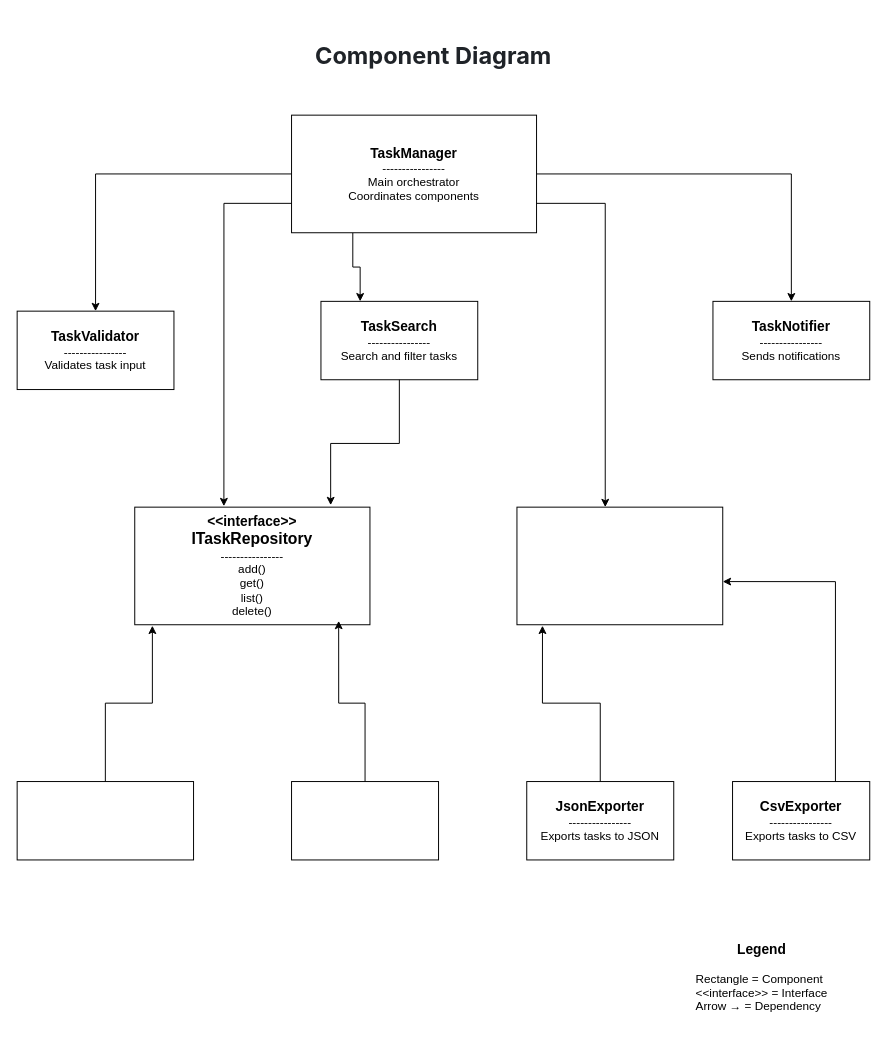
Some shapes in this 887 by 1043 pixel diagram are drawn without their labels. Each missing label, with the centre of its shape:
"<<interface>> ITaskExporter ---------------- export(tasks, file)" belongs at point 619,565.
"FileTaskRepository ---------------- Stores tasks in file" belongs at point 365,820.
"InMemoryTaskRepository ---------------- Stores tasks in memory" belongs at point 105,820.
